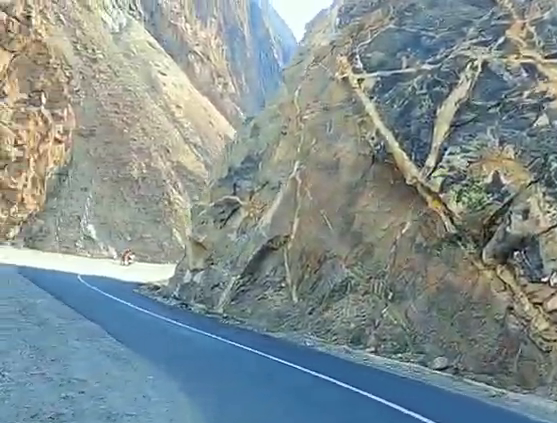stright: (41, 248, 220, 368)
